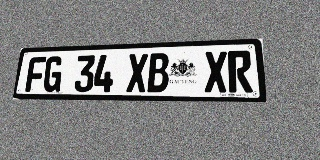3: (74, 55, 95, 92)
4: (93, 55, 115, 92)
B: (147, 53, 169, 92)
F: (25, 57, 46, 92)
G: (42, 56, 64, 92)
R: (228, 50, 253, 93)
X: (204, 51, 228, 93), (126, 53, 148, 92)
